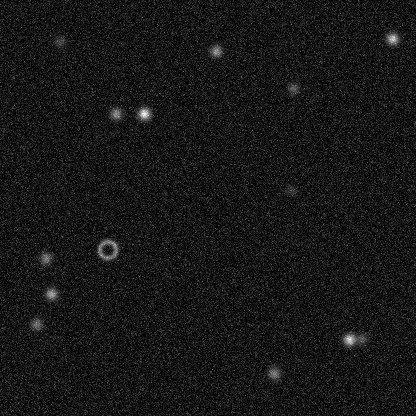Ring: (95, 237, 119, 261)
Spot: (37, 250, 53, 266), (285, 80, 301, 96), (353, 330, 369, 346), (207, 43, 223, 59), (282, 182, 298, 198), (107, 105, 123, 121), (266, 365, 282, 381), (28, 315, 44, 331), (51, 33, 67, 49), (341, 331, 357, 347), (43, 285, 59, 301), (384, 30, 400, 46), (136, 105, 152, 121)
